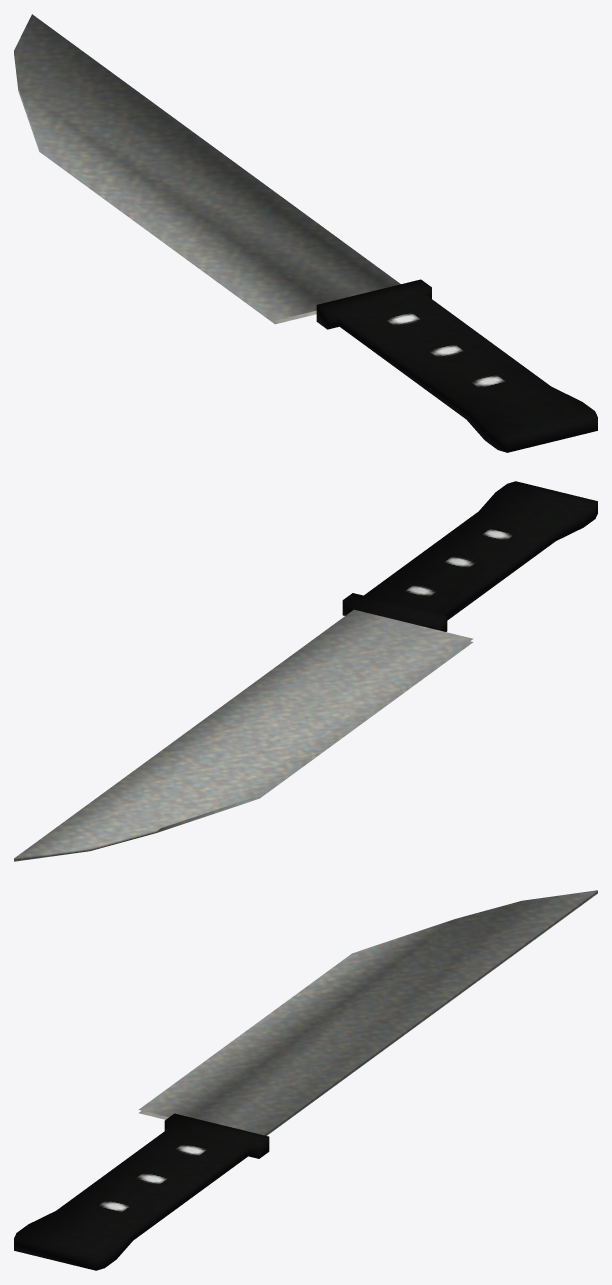
The model's file is knife_001.glb.
The picture shows the model from 3 angles, top to bottom: view 1: azimuth 30°, elevation 25°; view 2: azimuth 150°, elevation 25°; view 3: azimuth 330°, elevation 25°; orthographic projection. The views are drawn at different scales.
Visible parts, largest first — view 1: knife.001; view 2: knife.001; view 3: knife.001.
Boxes of the visible parts, left/top/right/bottom form: knife.001: left=14, top=14, right=597, bottom=452; knife.001: left=14, top=481, right=597, bottom=861; knife.001: left=14, top=890, right=597, bottom=1270.
Bounding box in the file's own units: 0.0527 × 0.00582 × 0.3523.
Materials: 1 (1 with a texture image).
